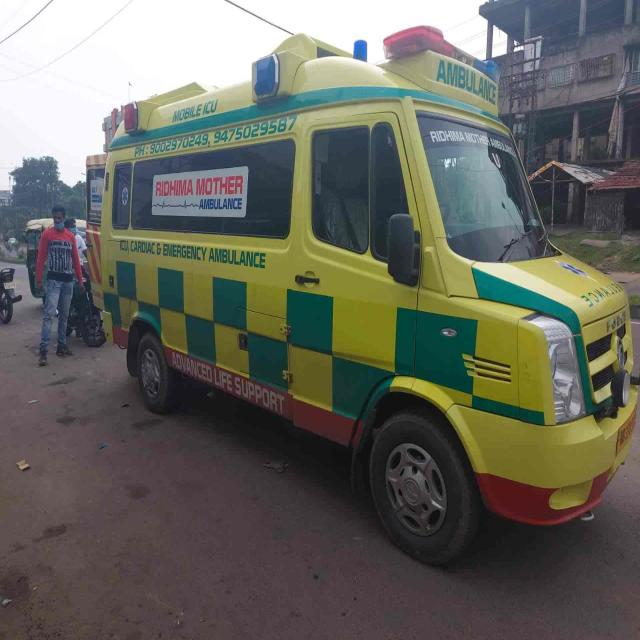emergency: (88, 27, 638, 563)
